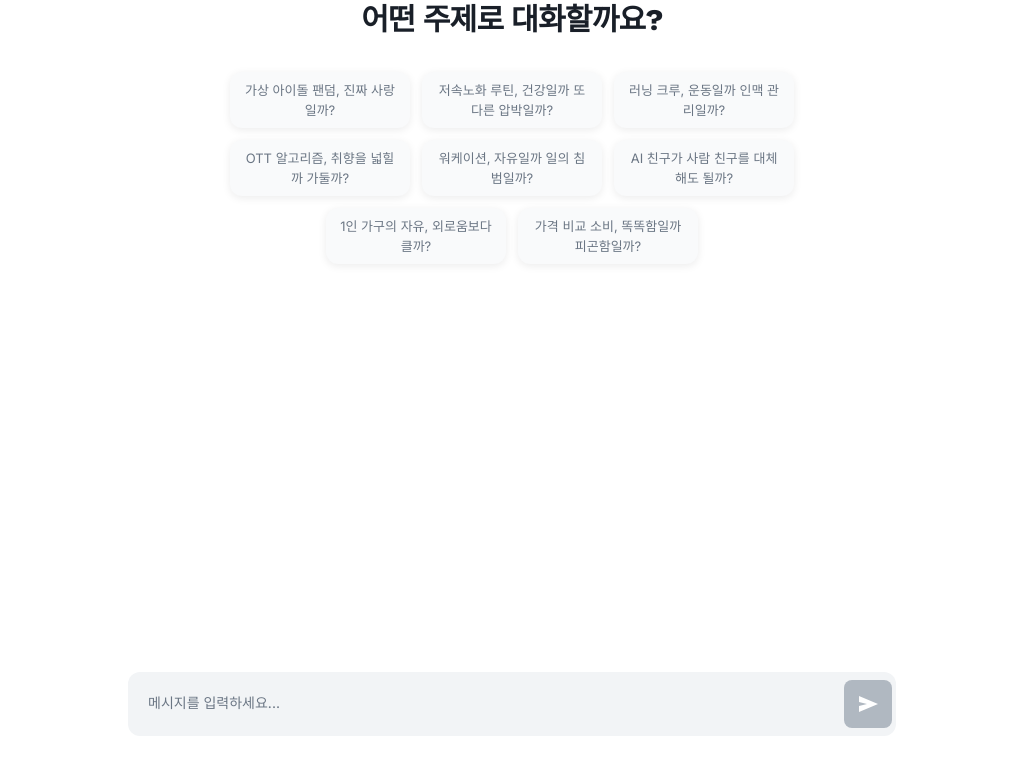
Test: InterestPopup › clears input via X button and keeps input focused
Type "토픽" into the text box with placeholder "메시지를 입력하세요...".
click(488, 704); type("토픽")  # box [132,676,844,732]
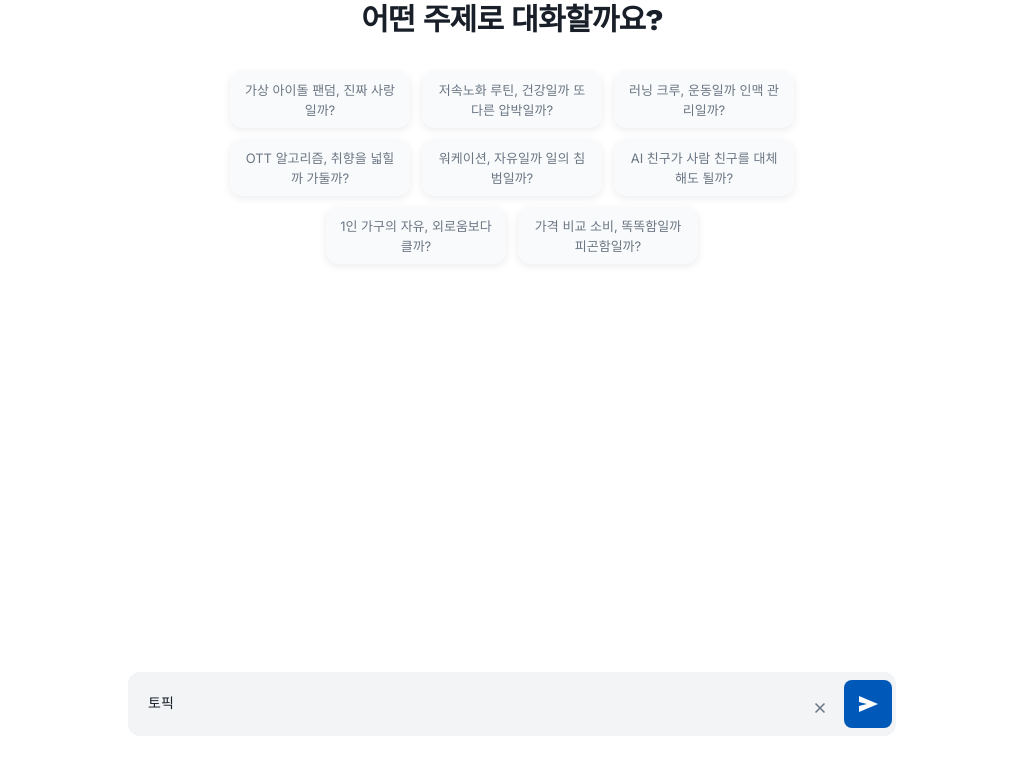
Click the button named "입력값 지우기".
click(820, 708)  # box [800,688,840,728]
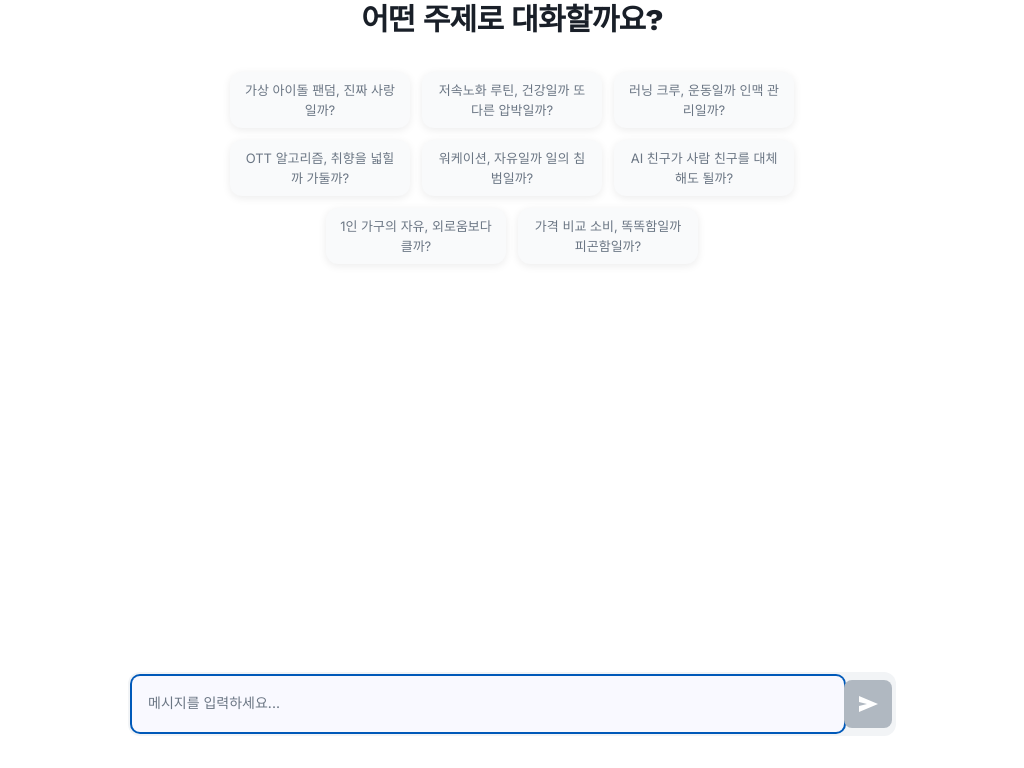
Result: the text box with placeholder "메시지를 입력하세요..." is empty at [132,676,844,732]
Result: the button named "시작하기" is disabled at [844,680,892,728]
